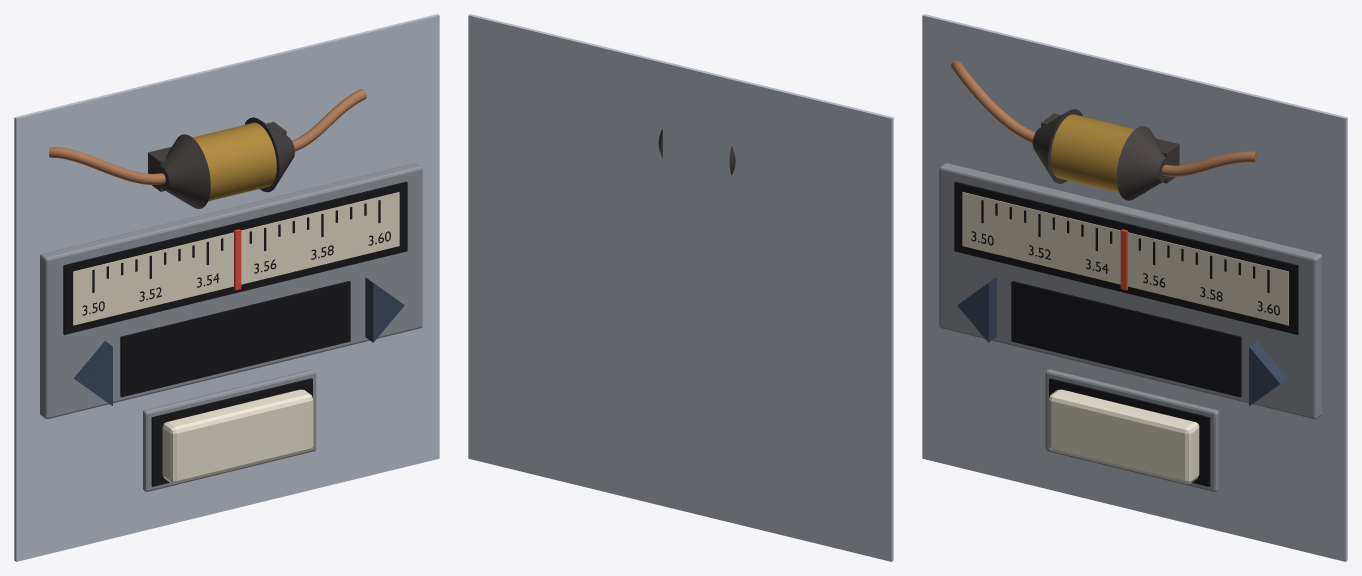
Rendered from morse_module.glb.
3 views of the same model, side by side, from view 1: azimuth 30°, elevation 25°; view 2: azimuth 150°, elevation 25°; view 3: azimuth 330°, elevation 25° (orthographic).
Visible parts, largest first — view 1: morse_plate, morse_panel, morse_scale, morse_screen, part_morse_tx, morse_scale_bezel, morse_lamp, morse_tx_tray, morse_cap_0, morse_tx_well, part_morse_right, part_morse_left (+5 smaller); view 2: morse_plate; view 3: morse_plate, morse_panel, morse_scale, morse_screen, part_morse_tx, morse_scale_bezel, morse_lamp, morse_tx_tray, morse_cap_1, morse_tx_well, part_morse_left, part_morse_right (+5 smaller).
Part boxes in pixels (<box>): morse_plate: <box>14,14,439,561</box>; morse_panel: <box>40,163,422,419</box>; morse_scale: <box>73,192,399,325</box>; morse_screen: <box>120,281,350,397</box>; part_morse_tx: <box>162,389,313,483</box>; morse_scale_bezel: <box>63,181,407,334</box>; morse_lamp: <box>193,122,276,201</box>; morse_tx_tray: <box>143,369,316,491</box>; morse_cap_0: <box>157,134,210,208</box>; morse_tx_well: <box>151,378,312,486</box>; part_morse_right: <box>365,277,404,342</box>; part_morse_left: <box>73,341,112,405</box>; morse_plate: <box>468,14,893,561</box>; morse_plate: <box>922,14,1347,561</box>; morse_panel: <box>939,163,1321,419</box>; morse_scale: <box>962,192,1288,325</box>; morse_screen: <box>1011,281,1241,397</box>; part_morse_tx: <box>1048,389,1199,483</box>; morse_scale_bezel: <box>954,181,1298,334</box>; morse_lamp: <box>1050,114,1134,192</box>; morse_tx_tray: <box>1045,369,1218,491</box>; morse_cap_1: <box>1116,126,1170,200</box>; morse_tx_well: <box>1049,378,1210,486</box>; part_morse_left: <box>957,277,996,342</box>; part_morse_right: <box>1249,341,1288,405</box>.
Size of the model in its own units: 0.74 by 0.74 by 0.116.
